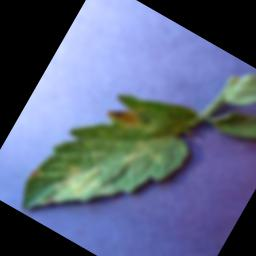Leaf_Mold: (102, 100, 147, 138)
